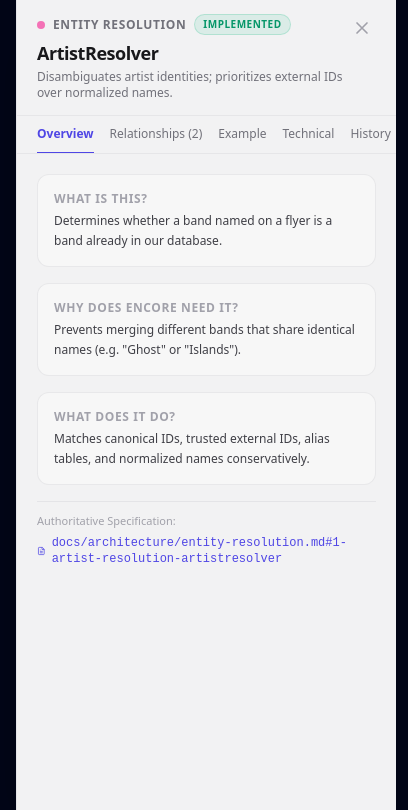
Test: Project Hub Components › NodeInspector › switches tabs and displays relationships, technical, and history information
The image size is (408, 810).
# Switch to Technical tab
Click the button "Technical". click: (308, 135)
box: x1=282 y1=116 x2=334 y2=154
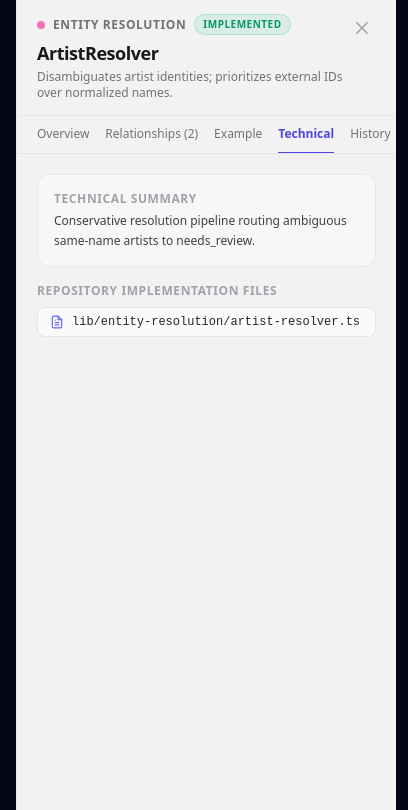
Result: the heading "Technical Summary" is shown at x1=54 y1=190 x2=197 y2=207
Result: the text "lib/entity-resolution/artist-resolver.ts" is shown at x1=72 y1=314 x2=360 y2=330
# Switch to Relationships tab
Click the button "Relationships (2)". click: (152, 135)
box: x1=105 y1=116 x2=198 y2=154
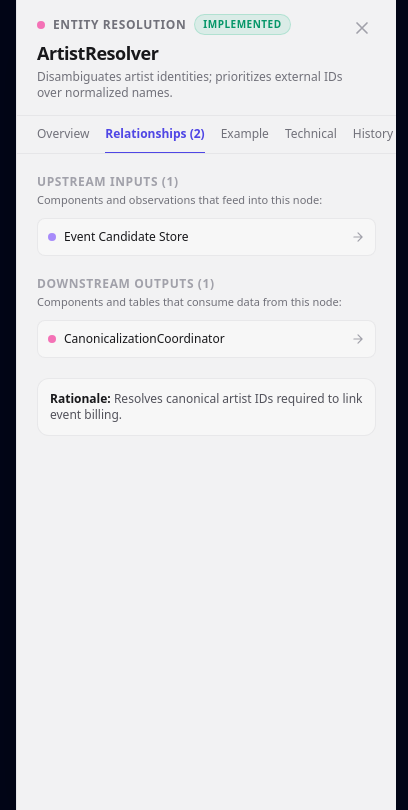
Result: the heading "Upstream Inputs (1)" is shown at x1=37 y1=173 x2=179 y2=190
Result: the text "Event Candidate Store" is shown at x1=64 y1=229 x2=189 y2=245
# Switch to History tab
Click the button "History". click: (373, 135)
box: x1=353 y1=116 x2=393 y2=154
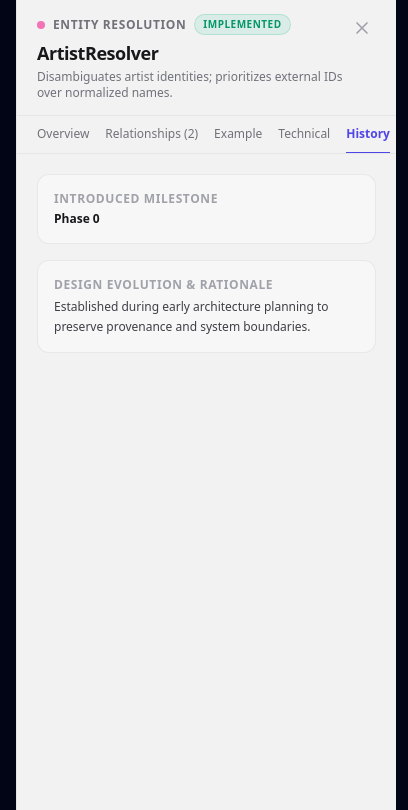
Result: the heading "Introduced Milestone" is shown at x1=54 y1=190 x2=218 y2=207
